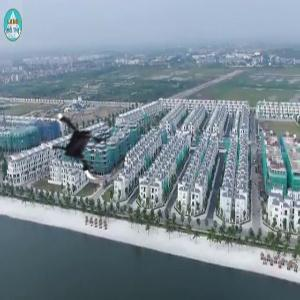drone: (37, 99, 126, 188)
